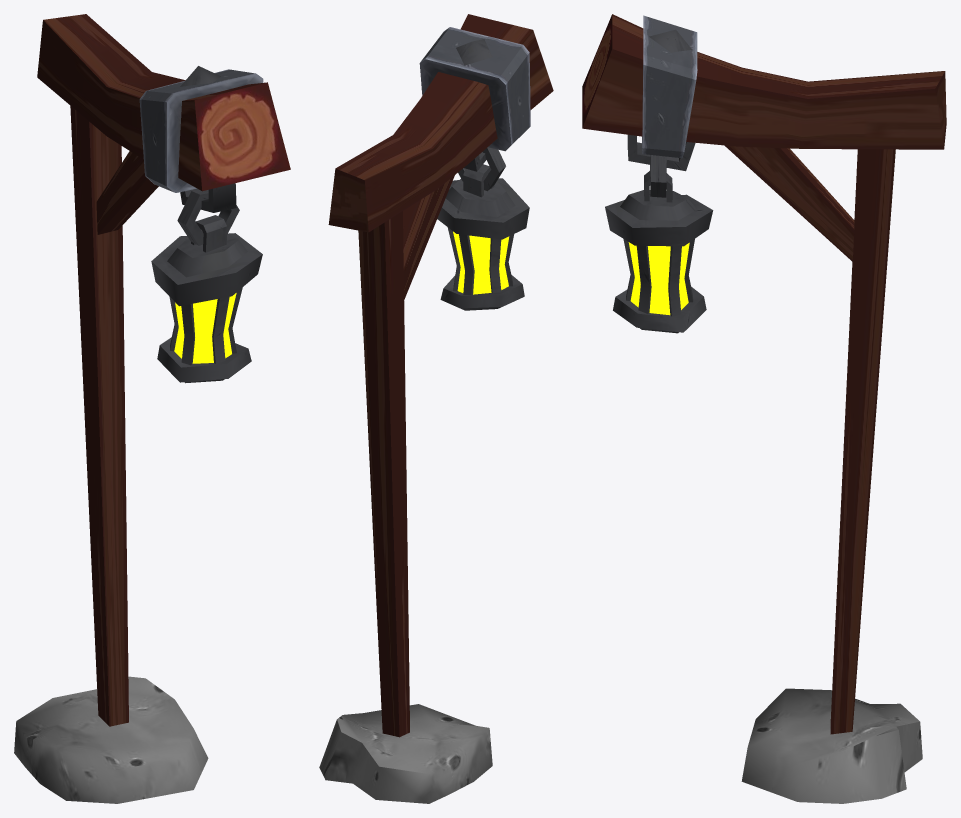
File: SM_PROP_streetlamp_v02_01.glb
The picture shows the model from 3 angles, left to right: view 1: azimuth 30°, elevation 25°; view 2: azimuth 150°, elevation 25°; view 3: azimuth 270°, elevation 25°; orthographic projection. The views are drawn at different scales.
Parts seen in each view (by area): view 1: SM_PROP_streetlamp_v02_01_EXPORT; view 2: SM_PROP_streetlamp_v02_01_EXPORT; view 3: SM_PROP_streetlamp_v02_01_EXPORT.
Boxes of the visible parts, x1,y1,x2,y2 form: SM_PROP_streetlamp_v02_01_EXPORT: [14, 14, 290, 803]; SM_PROP_streetlamp_v02_01_EXPORT: [319, 14, 553, 803]; SM_PROP_streetlamp_v02_01_EXPORT: [582, 14, 946, 803].
Bounding box in the file's own units: 0.8232 × 3.78 × 1.69.
Materials: 6 (6 with a texture image).
